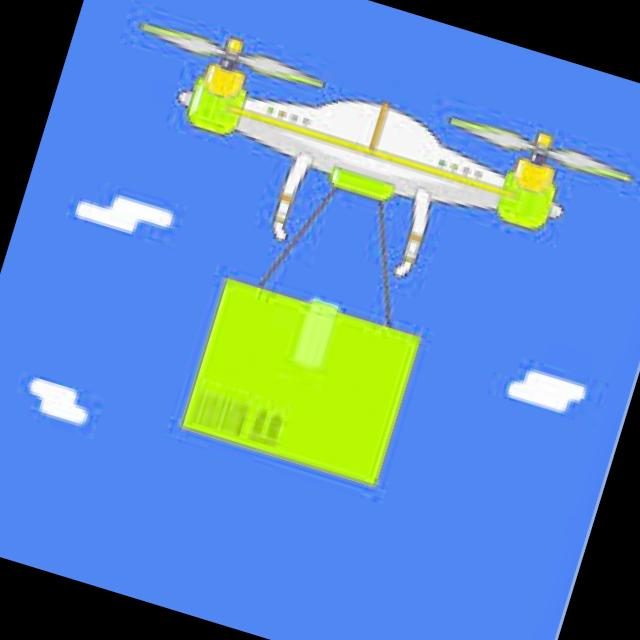drone: (66, 0, 640, 350)
